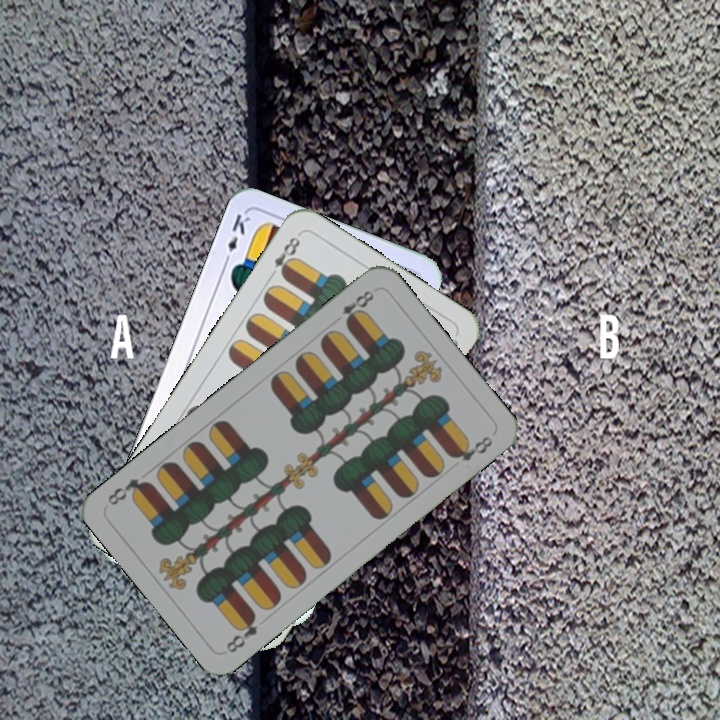E8: (264, 232, 303, 282), (222, 609, 261, 656), (338, 286, 377, 329)
EK: (219, 209, 253, 267)
